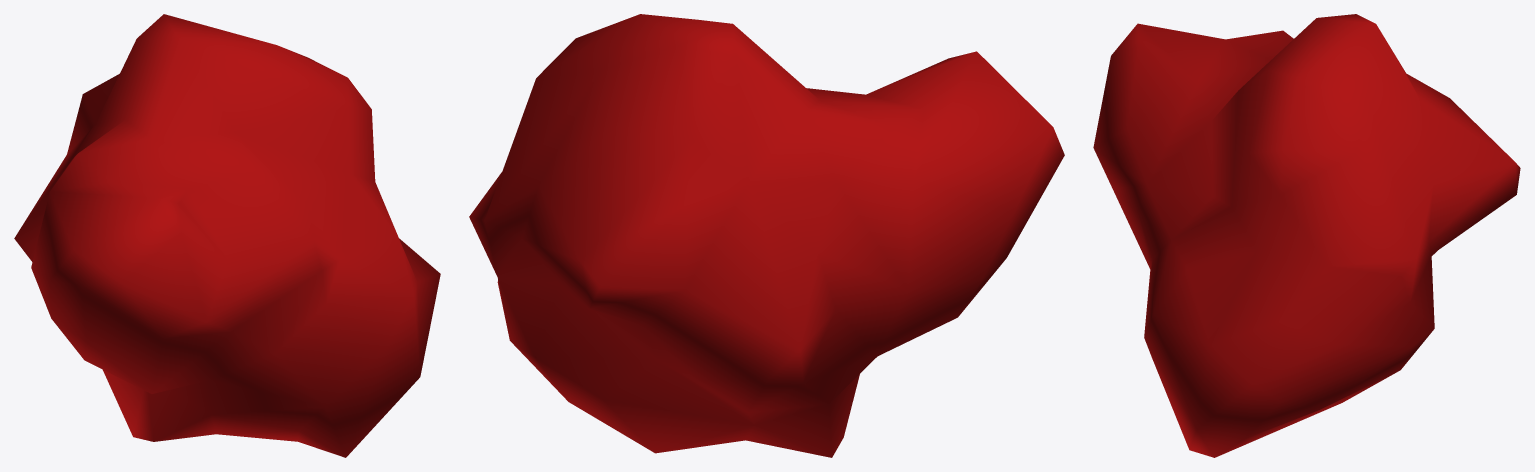
Rendered from HIV1_TAT_1jfw_0_1_1.dae.
The picture shows the model from 3 angles, left to right: view 1: azimuth 30°, elevation 25°; view 2: azimuth 150°, elevation 25°; view 3: azimuth 270°, elevation 25°; orthographic projection. The views are drawn at different scales.
Visible parts, largest first — view 1: HIV1_TAT_1jfw_0_1_0; view 2: HIV1_TAT_1jfw_0_1_0; view 3: HIV1_TAT_1jfw_0_1_0.
Boxes of the visible parts, left/top/right/bottom form: HIV1_TAT_1jfw_0_1_0: left=14, top=14, right=440, bottom=457; HIV1_TAT_1jfw_0_1_0: left=469, top=14, right=1064, bottom=457; HIV1_TAT_1jfw_0_1_0: left=1093, top=14, right=1520, bottom=457.
Size of the model in its own units: 42.71 by 38.71 by 38.75.
